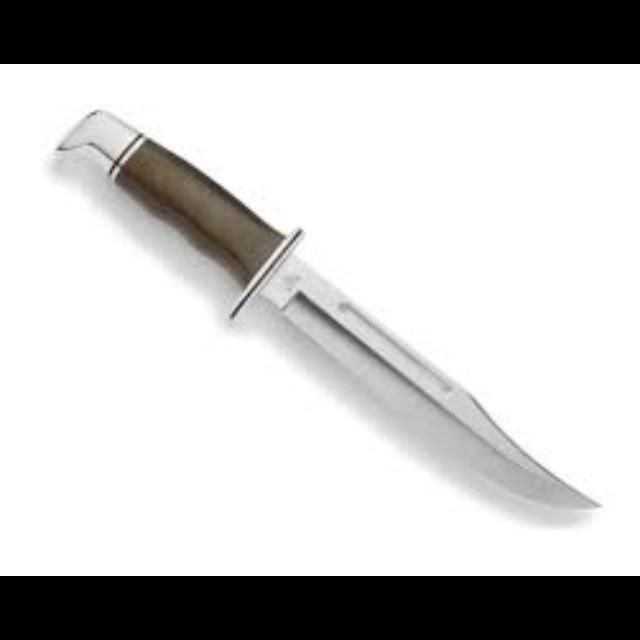Knife: (51, 105, 601, 512)
